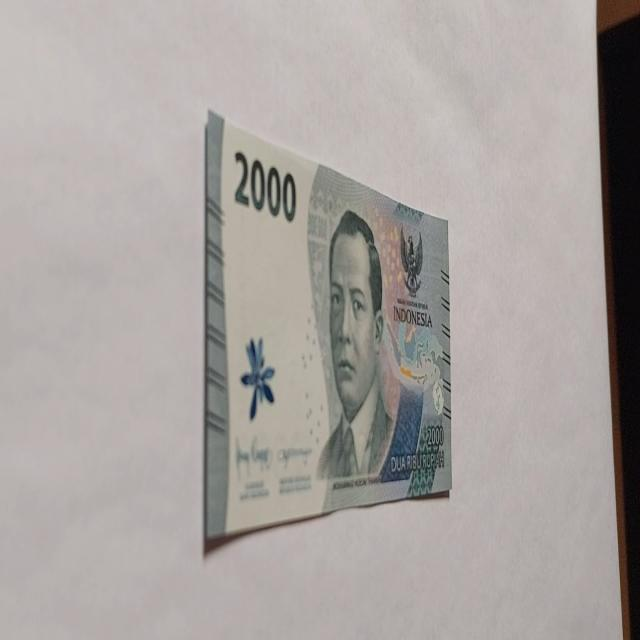dua ribu rupiah: (203, 107, 452, 545), (314, 208, 396, 482)
